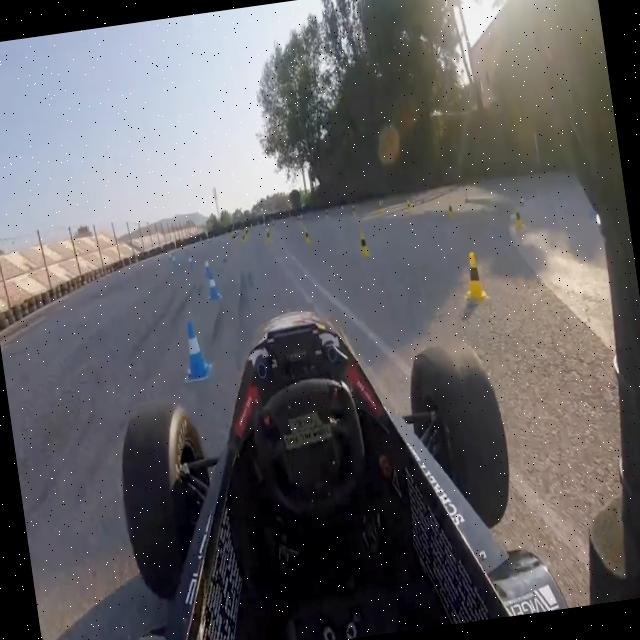blue_cone: (178, 318, 215, 386), (205, 270, 221, 301), (202, 258, 212, 276), (187, 254, 194, 270), (172, 254, 177, 268)
yellow_cone: (458, 252, 487, 304), (357, 228, 372, 260), (512, 203, 524, 230), (446, 200, 456, 220), (406, 197, 414, 218), (303, 228, 312, 246), (264, 228, 273, 246), (242, 234, 246, 246)
